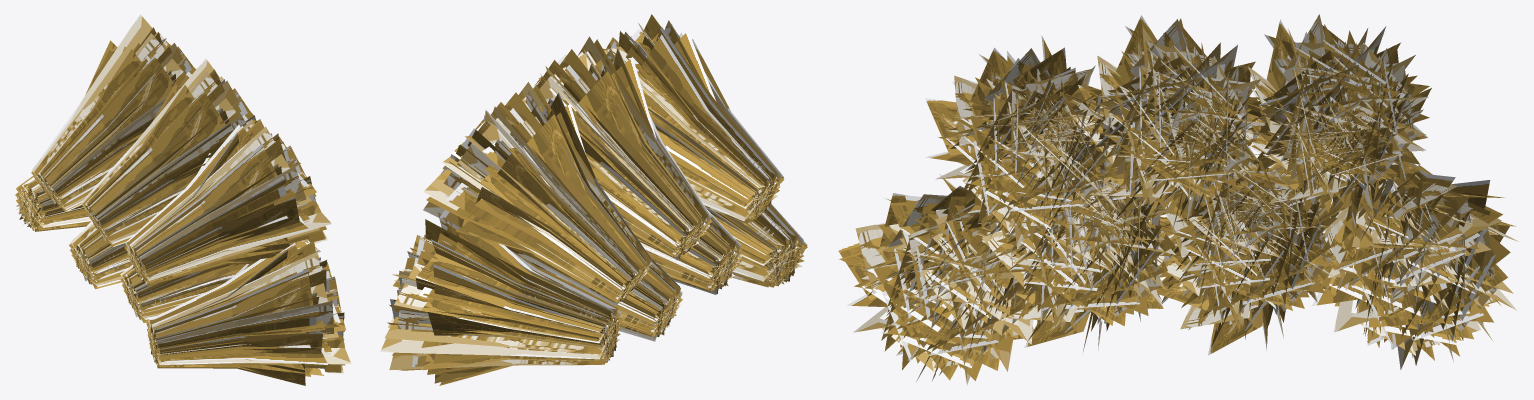
Rendered from MS_WindmillWheat7.fbx.
3 renders of one model, left to right at view 1: azimuth 30°, elevation 25°; view 2: azimuth 150°, elevation 25°; view 3: azimuth 270°, elevation 25°, orthographic. The views are drawn at different scales.
Visible parts, largest first — view 1: Plane.005; view 2: Plane.005; view 3: Plane.005.
Boxes of the visible parts, x1,y1,x2,y2 form: Plane.005: (15,14,351,385); Plane.005: (380,14,807,385); Plane.005: (837,14,1518,385).
Bounding box in the file's own units: 856 × 1048 × 1886.
